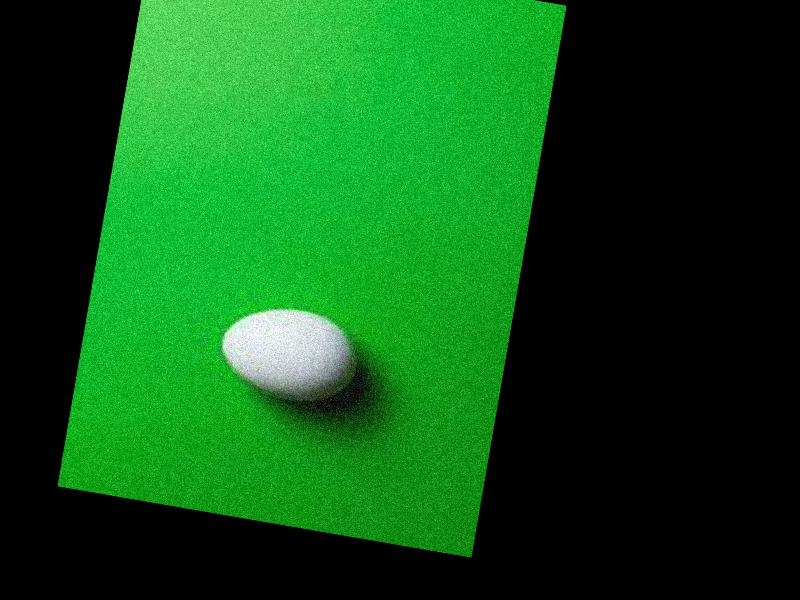Eggs: (214, 299, 363, 409)
